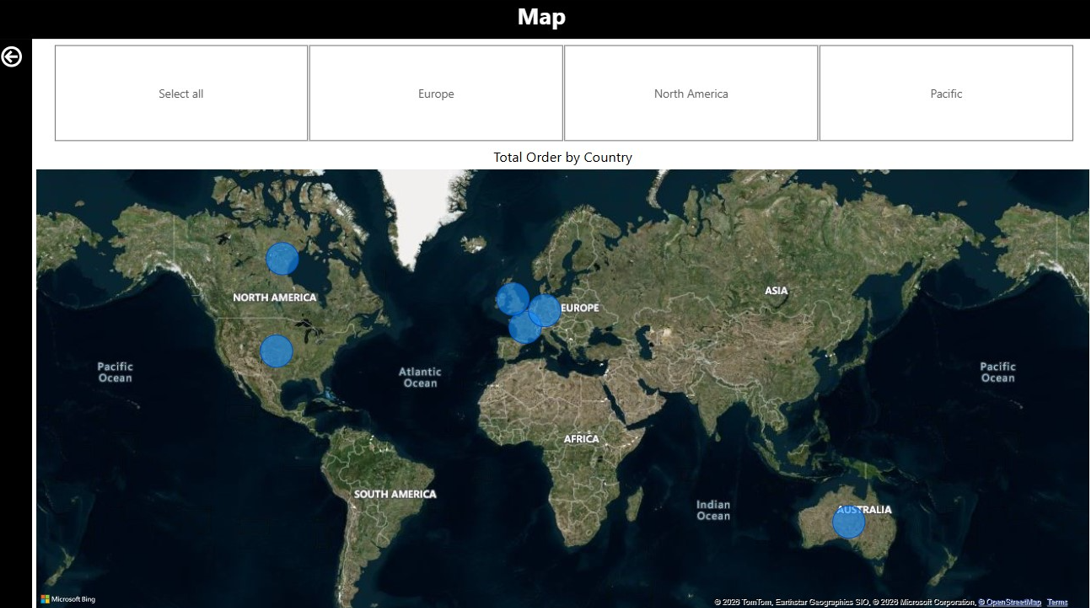

The dashboard page shown, as its layout file describes it:
{"tool":"powerbi","page":{"name":"Maps","canvas":[1400,800],"ordinal":1},"visuals":[{"type":"actionButton","box":[0,0,100,40],"z":0},{"type":"shape","box":[0,0,50,800],"z":1000},{"type":"image","box":[71.7,110,170,121.7],"z":2000},{"type":"map","fields":{"Category":["Territory Lookup.Country"],"Size":["Measure Table.Total Order"]},"box":[71.7,285,1316.7,495],"z":3000},{"type":"image","box":[0,74.7,58.4,47.6],"z":4000},{"type":"image","box":[0,357.3,54.3,65.2],"z":5000},{"type":"image","box":[0,630.4,52,52],"z":6000},{"type":"slicer","title":"Contint","fields":{"Values":["Territory Lookup.Continent"]},"box":[335,98.3,1033.3,143.3],"z":7000},{"type":"textbox","box":[0,0,1388.3,58.3],"z":7001}]}

Visuals, with their boxes in screenshot pixels (x1, y1, x2, y2), scaled from the page's 1400x800 canvas onto the 1090x608 screenshot:
actionButton: 0/0/78/30
shape: 0/0/39/607
image: 56/84/188/176
map - Territory Lookup.Country x Measure Table.Total Order: 56/217/1081/593
image: 0/57/45/93
image: 0/272/42/321
image: 0/479/40/519
"Contint" slicer: 261/75/1065/184
textbox: 0/0/1081/44
